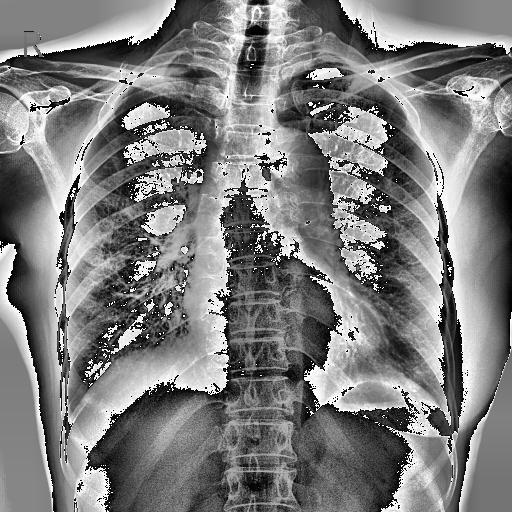0- Aortic enlargement: (258, 130, 334, 222), (257, 128, 332, 209), (260, 129, 330, 215)
11- Pleural thickening: (128, 60, 194, 90)
3- Cardiomegaly: (182, 276, 388, 371)
